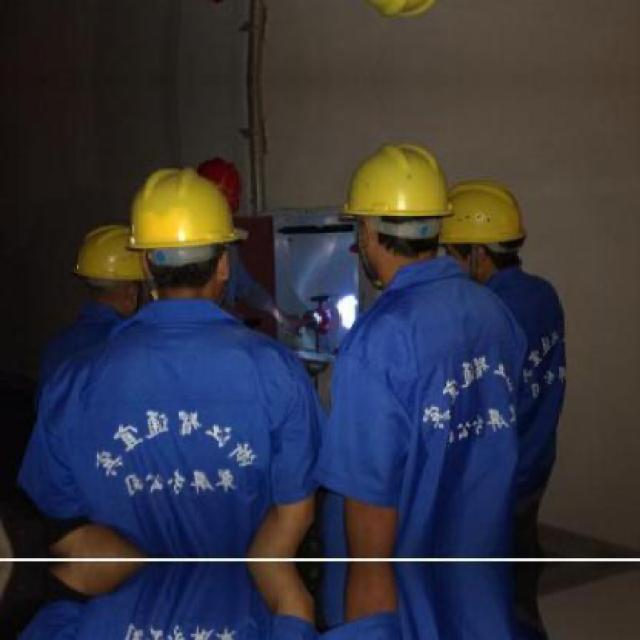con casco: (104, 159, 226, 347), (337, 151, 451, 343), (417, 180, 549, 327), (17, 220, 151, 364)
